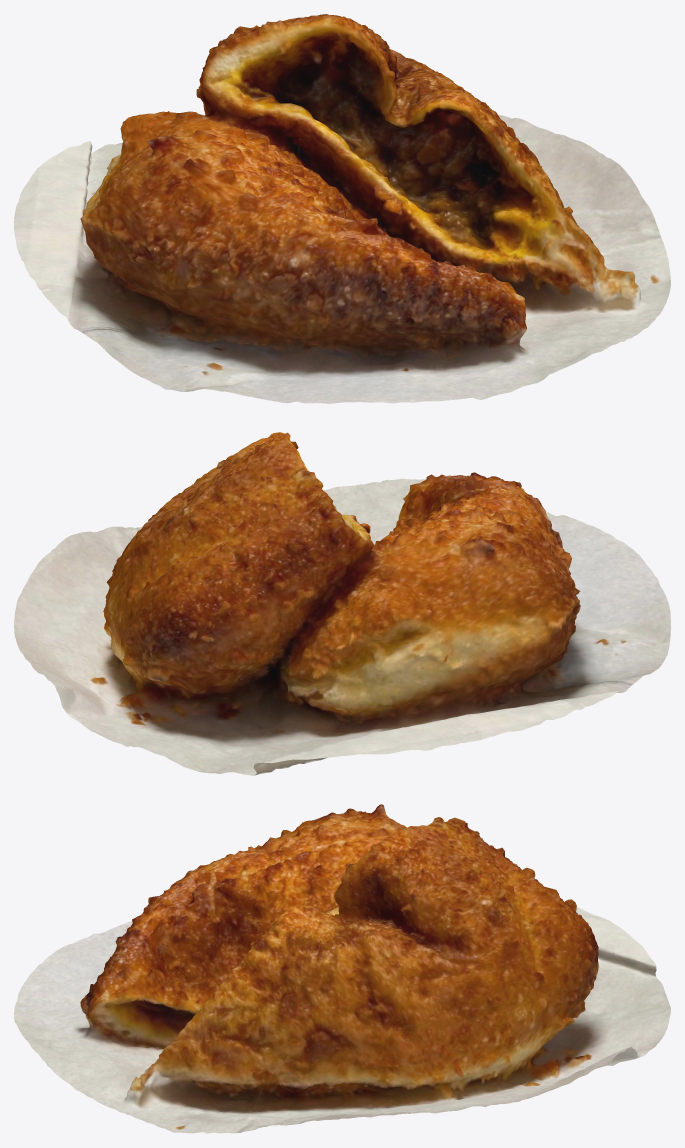
Rendered from curryPan.glb.
3 views of the same model, one above another, from view 1: azimuth 30°, elevation 25°; view 2: azimuth 150°, elevation 25°; view 3: azimuth 270°, elevation 25° (orthographic). The views are drawn at different scales.
Visible parts, largest first — view 1: 3Ddata_0; view 2: 3Ddata_0; view 3: 3Ddata_0.
Boxes of the visible parts, x1,y1,x2,y2 form: 3Ddata_0: [14, 14, 670, 403]; 3Ddata_0: [14, 432, 670, 775]; 3Ddata_0: [14, 804, 670, 1133].
Size of the model in its own units: 0.1379 by 0.0562 by 0.1538.
Materials: 1 (1 with a texture image).
